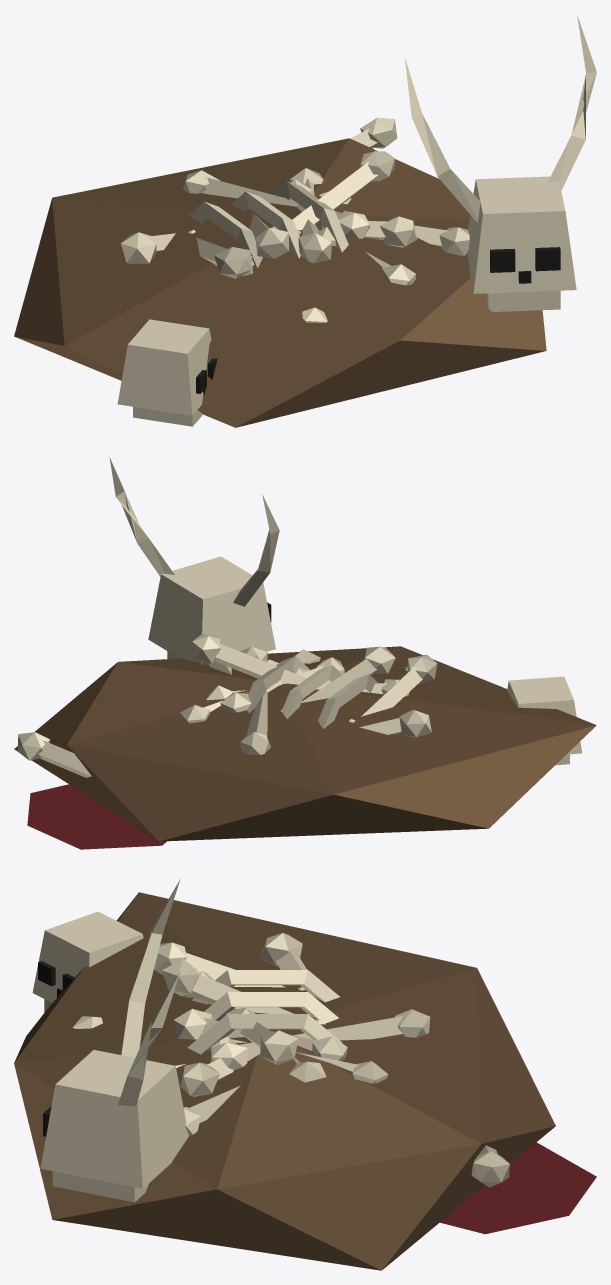
The model's file is wolf_bone_pile.glb.
3 views of the same model, one above another, from view 1: azimuth 30°, elevation 25°; view 2: azimuth 150°, elevation 25°; view 3: azimuth 270°, elevation 25° (orthographic). The views are drawn at different scales.
Visible parts, largest first — view 1: wolf_bone_pile; view 2: wolf_bone_pile; view 3: wolf_bone_pile.
Part boxes in pixels (<box>): wolf_bone_pile: <box>14,15,596,427</box>; wolf_bone_pile: <box>14,457,596,849</box>; wolf_bone_pile: <box>14,879,596,1270</box>.
Size of the model in its own units: 1.59 by 0.7542 by 1.34.
